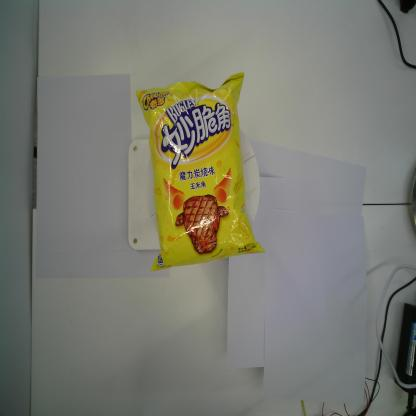Puffed Food: (129, 67, 266, 274)
